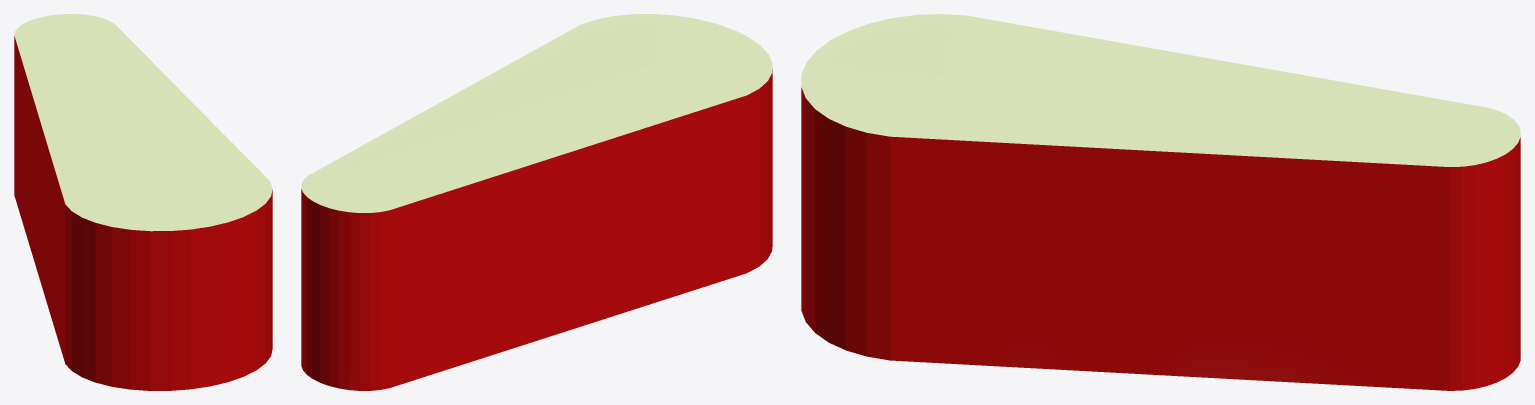
The model's file is Flipper.obj.
3 views of the same model, side by side, from view 1: azimuth 30°, elevation 25°; view 2: azimuth 150°, elevation 25°; view 3: azimuth 270°, elevation 25° (orthographic). The views are drawn at different scales.
Bounding box in the file's own units: 0.934 × 0.6399 × 1.85.
